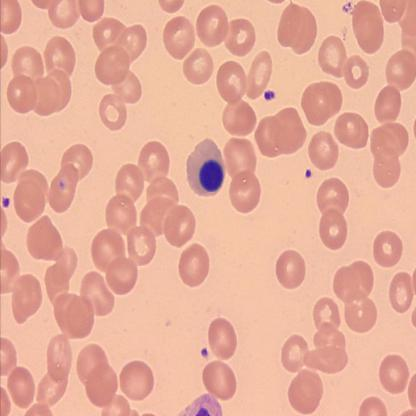NRC: (186, 136, 226, 198)
